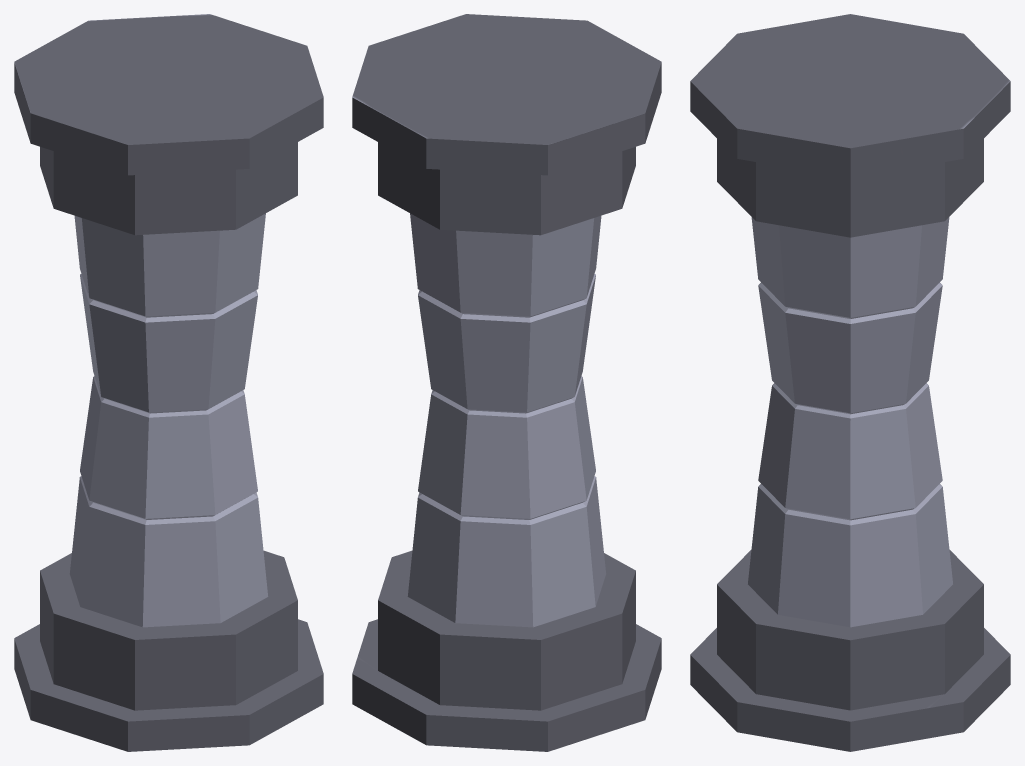
The model's file is coluna_redonda.fbx.
3 renders of one model, left to right at view 1: azimuth 30°, elevation 25°; view 2: azimuth 150°, elevation 25°; view 3: azimuth 270°, elevation 25°, orthographic.
Parts seen in each view (by area): view 1: coluna _redonda.013; view 2: coluna _redonda.013; view 3: coluna _redonda.013.
Boxes of the visible parts, left/top/right/bottom form: coluna _redonda.013: left=14, top=14, right=323, bottom=751; coluna _redonda.013: left=352, top=14, right=661, bottom=751; coluna _redonda.013: left=690, top=14, right=1010, bottom=751.
Bounding box in the file's own units: 52.27 × 110 × 52.7.
